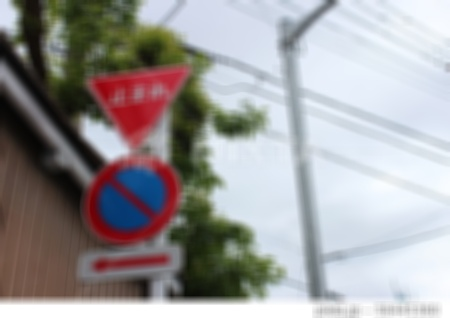Prohibition_sign: (71, 144, 194, 268)
